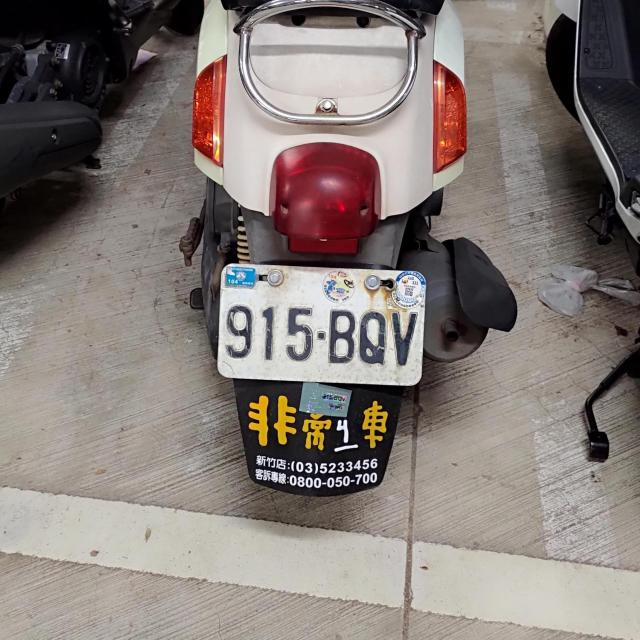W: (212, 258, 427, 386)
